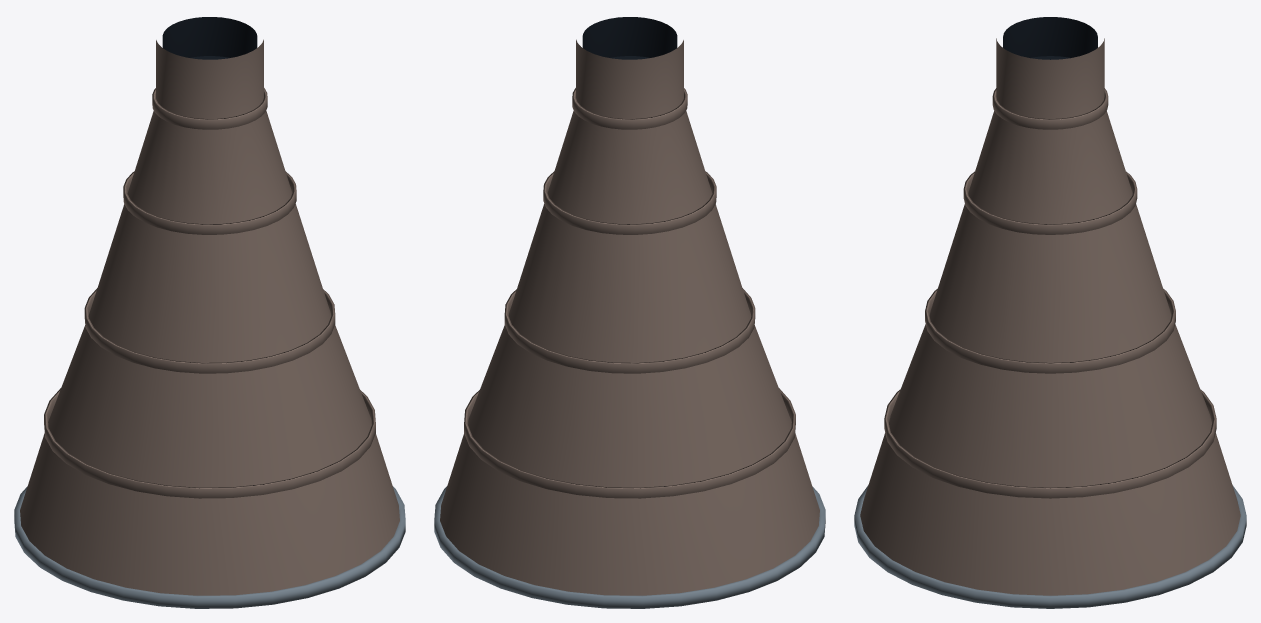
Rendered from orion_esm.aux_thruster_07.glb.
3 views of the same model, side by side, from view 1: azimuth 30°, elevation 25°; view 2: azimuth 150°, elevation 25°; view 3: azimuth 270°, elevation 25° (orthographic).
Visible parts, largest first — view 1: orion_esm.aux_thruster_07.bell.mesh_Heat-stained_alloy, orion_esm.aux_thruster_07.bell.mesh_Machined_steel, orion_esm.aux_thruster_07.bell.mesh_Shadowed_interior; view 2: orion_esm.aux_thruster_07.bell.mesh_Heat-stained_alloy, orion_esm.aux_thruster_07.bell.mesh_Machined_steel, orion_esm.aux_thruster_07.bell.mesh_Shadowed_interior; view 3: orion_esm.aux_thruster_07.bell.mesh_Heat-stained_alloy, orion_esm.aux_thruster_07.bell.mesh_Machined_steel, orion_esm.aux_thruster_07.bell.mesh_Shadowed_interior.
Part boxes in pixels (x1,y1,x2,y2): orion_esm.aux_thruster_07.bell.mesh_Heat-stained_alloy: (20,39,399,595); orion_esm.aux_thruster_07.bell.mesh_Machined_steel: (14,486,405,608); orion_esm.aux_thruster_07.bell.mesh_Shadowed_interior: (162,17,257,59); orion_esm.aux_thruster_07.bell.mesh_Heat-stained_alloy: (440,39,819,595); orion_esm.aux_thruster_07.bell.mesh_Machined_steel: (434,486,825,608); orion_esm.aux_thruster_07.bell.mesh_Shadowed_interior: (582,17,677,59); orion_esm.aux_thruster_07.bell.mesh_Heat-stained_alloy: (860,38,1240,595); orion_esm.aux_thruster_07.bell.mesh_Machined_steel: (854,485,1246,608); orion_esm.aux_thruster_07.bell.mesh_Shadowed_interior: (1003,17,1097,59).
Bounding box in the file's own units: 0.2834 × 0.39 × 0.2834.
